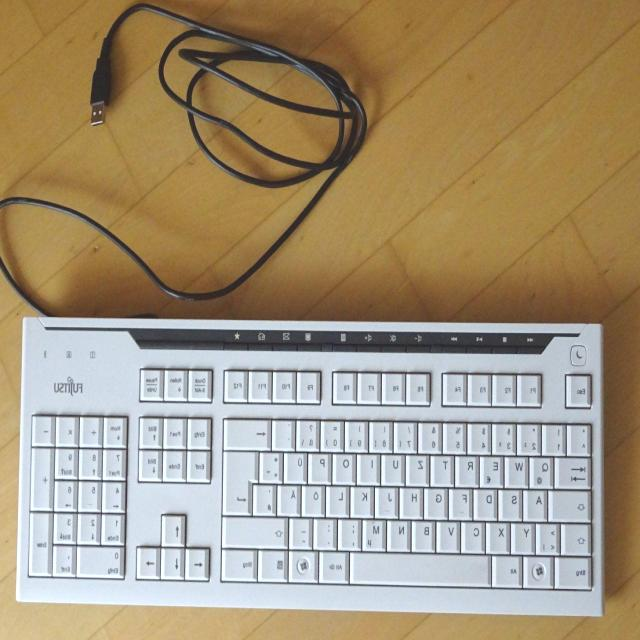0: (323, 417, 345, 449)
1: (544, 422, 567, 454)
2: (519, 421, 542, 453)
3: (495, 421, 516, 453)
4: (471, 420, 491, 452)
5: (446, 419, 467, 451)
6: (421, 419, 443, 451)
7: (396, 419, 418, 452)
8: (372, 418, 394, 450)
9: (347, 418, 369, 450)
a: (527, 487, 549, 519)
accent: (275, 417, 297, 448)
ae: (279, 482, 301, 514)
alt-left: (495, 552, 524, 586)
altgr-right: (322, 548, 350, 580)
b: (415, 517, 437, 549)
c: (465, 518, 487, 550)
caret: (571, 422, 593, 454)
comma: (341, 516, 363, 548)
d: (477, 485, 499, 518)
del: (226, 416, 272, 447)
e: (484, 453, 506, 485)
enter: (225, 447, 259, 513)
f: (452, 485, 473, 517)
g: (428, 485, 449, 517)
h: (402, 484, 423, 516)
hash: (256, 481, 277, 513)
i: (361, 450, 381, 481)
j: (378, 484, 399, 516)
k: (353, 483, 375, 515)
keyboard: (14, 316, 606, 618)
l: (329, 482, 349, 514)
less: (539, 520, 561, 553)
m: (365, 516, 388, 550)
minus: (293, 515, 313, 546)
n: (390, 517, 411, 549)
o: (335, 450, 357, 482)
oe: (304, 482, 326, 514)
p: (312, 450, 332, 480)
plus: (262, 448, 284, 480)
point: (316, 515, 338, 547)
q: (532, 453, 556, 487)
r: (458, 453, 480, 485)
s: (502, 486, 524, 518)
shift-left: (565, 521, 593, 553)
shift-lock: (551, 486, 593, 520)
shift-right: (226, 514, 289, 546)
space: (353, 551, 491, 586)
ss: (299, 417, 321, 449)
strg-left: (557, 554, 595, 588)
strg-right: (224, 547, 260, 579)
t: (433, 452, 455, 484)
tab: (559, 454, 593, 485)
u: (384, 451, 406, 483)
ue: (287, 449, 309, 482)
v: (440, 518, 461, 550)
w: (508, 453, 530, 485)
x: (489, 519, 510, 551)
y: (514, 520, 536, 552)
z: (408, 452, 430, 484)
